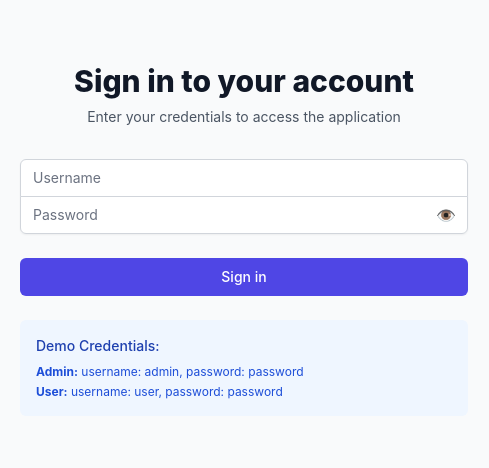
LoginPage › should validate username length
Type "ab" into the field with placeholder "Username" at (244, 178), box x1=20 y1=158 x2=468 y2=196
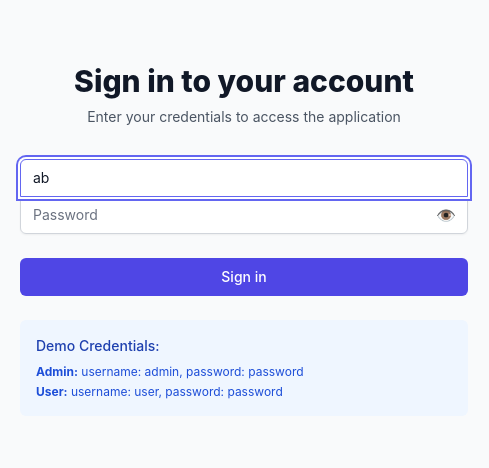
Type "password123" into the password field with placeholder "Password" at (244, 214), box x1=20 y1=196 x2=468 y2=234
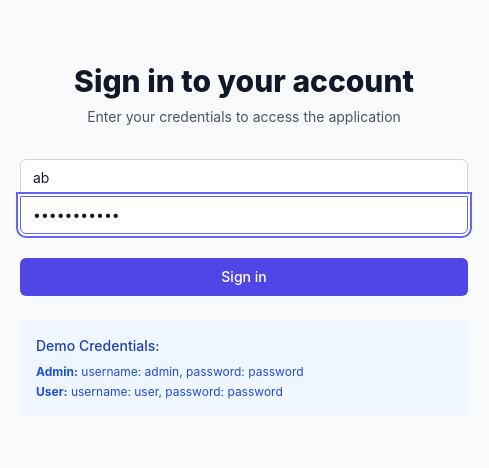
Click the button "Sign in" at (244, 276), box x1=20 y1=258 x2=468 y2=296
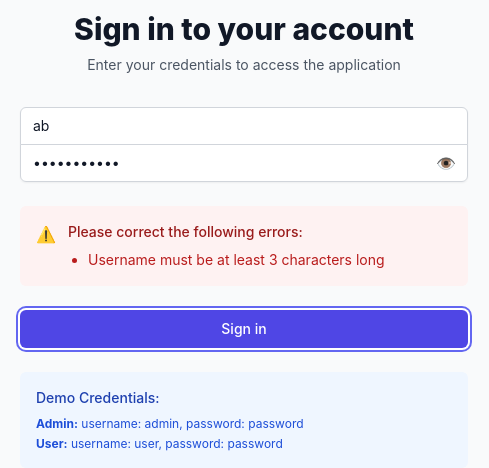
Expected: the list item "Username must be at least 3 characters long" is shown, x1=88 y1=250 x2=385 y2=270
